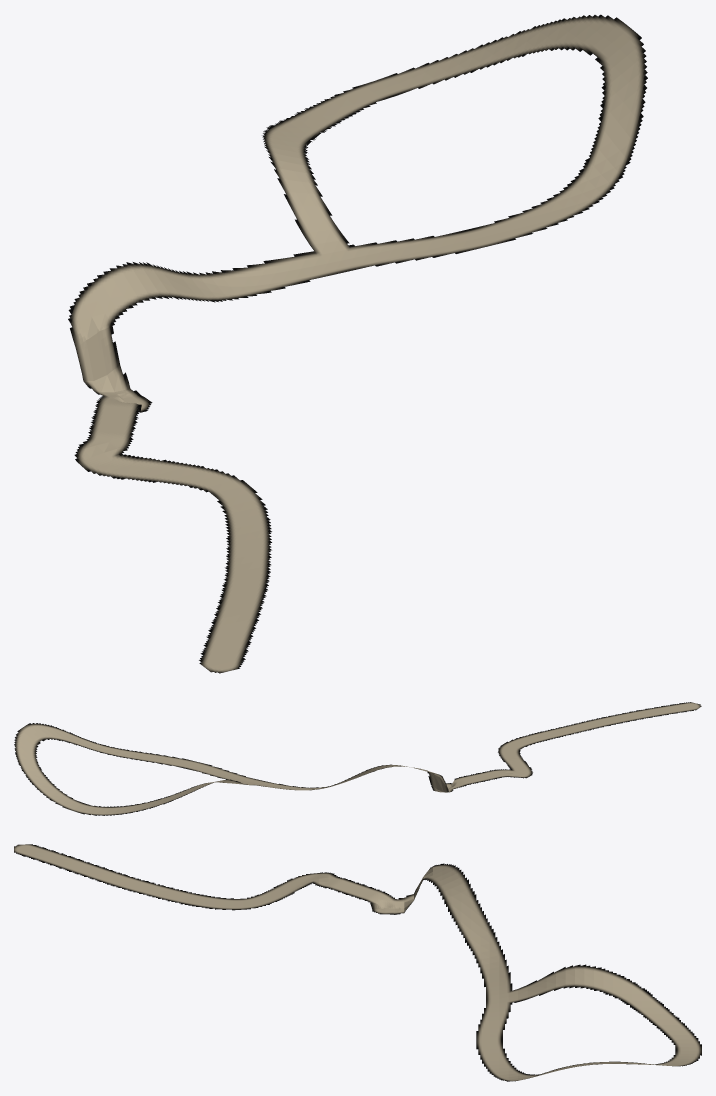
Rendered from SM_Footpath.fbx.
3 renders of one model, top to bottom at view 1: azimuth 30°, elevation 25°; view 2: azimuth 150°, elevation 25°; view 3: azimuth 270°, elevation 25°, orthographic. The views are drawn at different scales.
Parts seen in each view (by area): view 1: SM_Footpath; view 2: SM_Footpath; view 3: SM_Footpath.
Part boxes in pixels (x1,y1,x2,y2): SM_Footpath: (68,14,647,673); SM_Footpath: (14,702,701,815); SM_Footpath: (14,844,701,1081).
Size of the model in its own units: 6760 by 7260 by 641.
